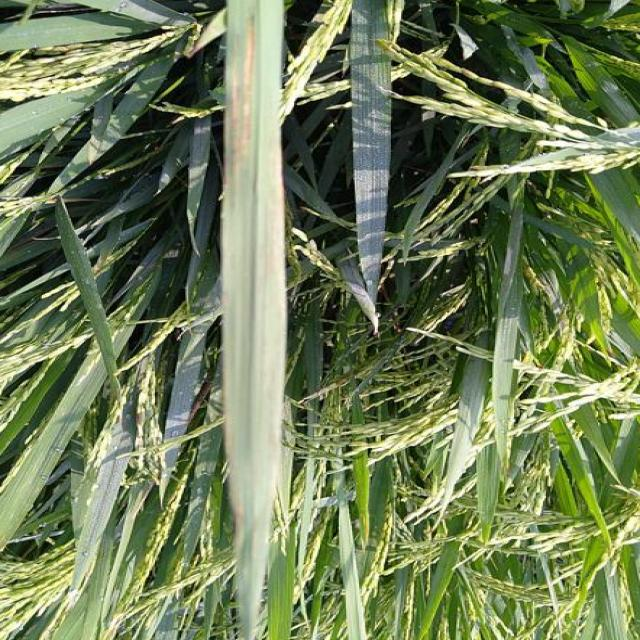Leaf Streak: (226, 4, 258, 189), (236, 491, 261, 640)
